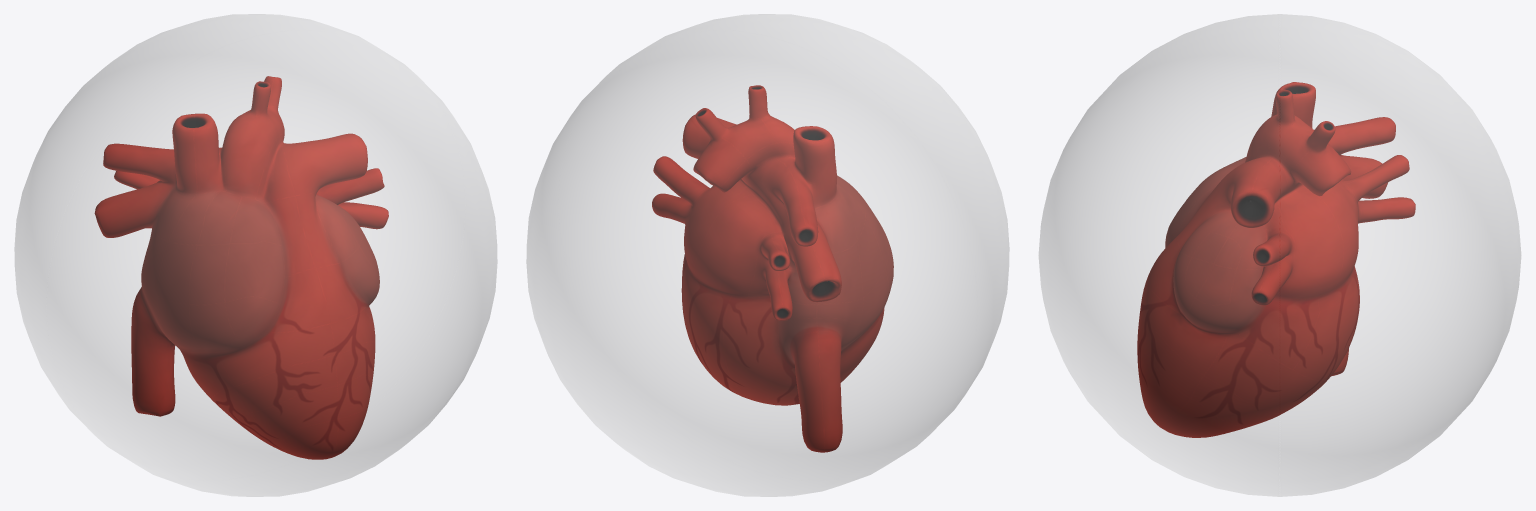
File: heart-in-bubble.glb
3 views of the same model, side by side, from view 1: azimuth 30°, elevation 25°; view 2: azimuth 150°, elevation 25°; view 3: azimuth 270°, elevation 25° (orthographic).
Parts seen in each view (by area): view 1: Marble, Heart; view 2: Marble, Heart; view 3: Marble, Heart.
Boxes of the visible parts, x1=… form: Marble: x1=14, y1=14, x2=497, y2=496; Heart: x1=94, y1=76, x2=388, y2=459; Marble: x1=526, y1=14, x2=1009, y2=496; Heart: x1=652, y1=85, x2=893, y2=452; Marble: x1=1038, y1=14, x2=1521, y2=496; Heart: x1=1137, y1=82, x2=1415, y2=437.
Size of the model in its own units: 1.99 by 1.99 by 1.99.
2 materials, 2 textured.
